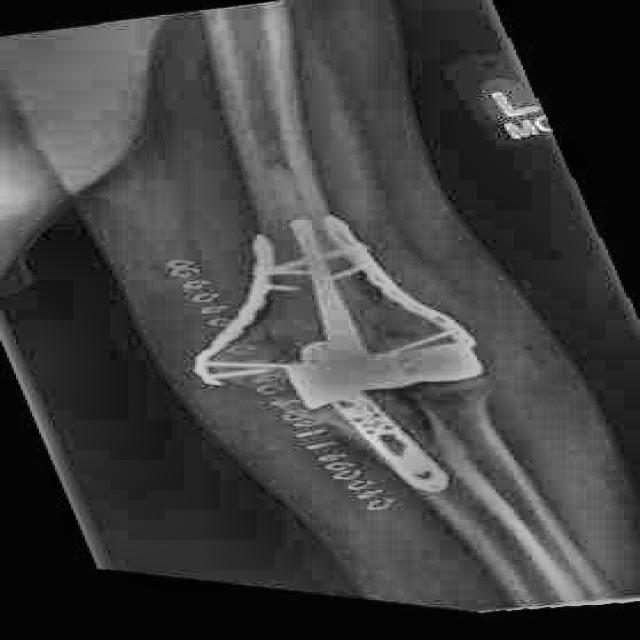elbow positive: (337, 276, 477, 361), (226, 302, 334, 392)
